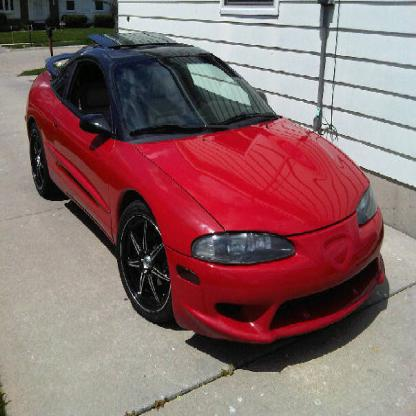Vehicle: (26, 30, 387, 346)
